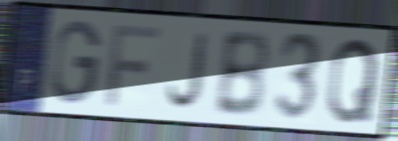3: (272, 28, 323, 126)
B: (211, 28, 271, 121)
F: (103, 22, 163, 109)
G: (48, 18, 104, 108)
J: (165, 29, 212, 112)
Q: (324, 36, 382, 126)
